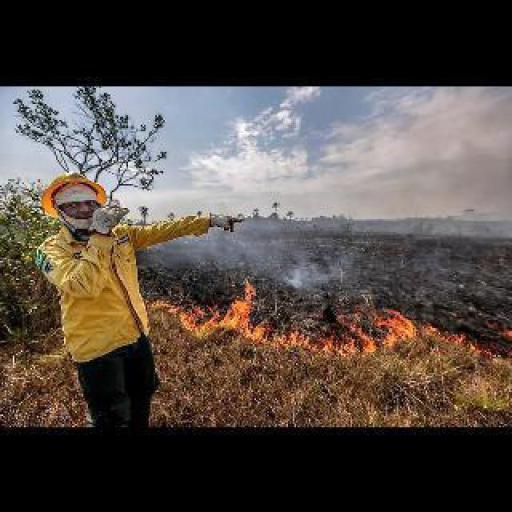smoke: (142, 277, 500, 357), (276, 250, 361, 298)
